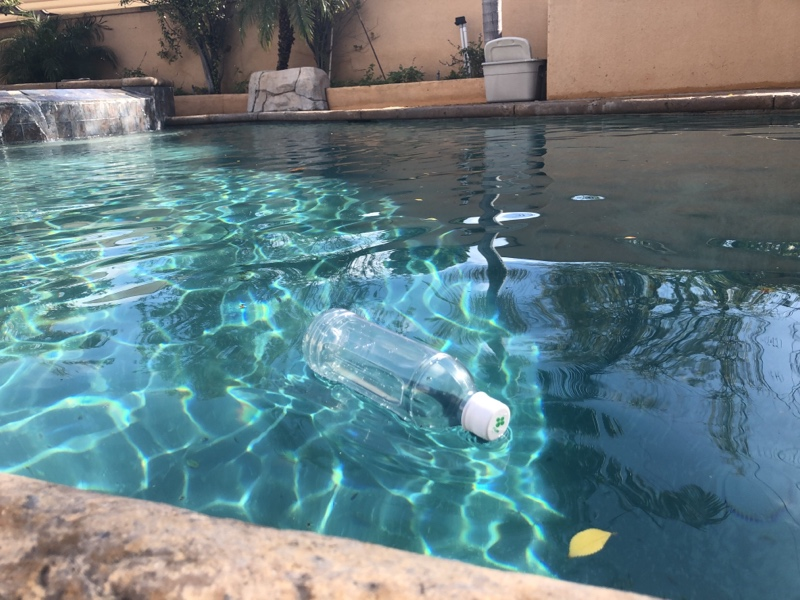Plastic Bottle: (299, 306, 512, 447)
